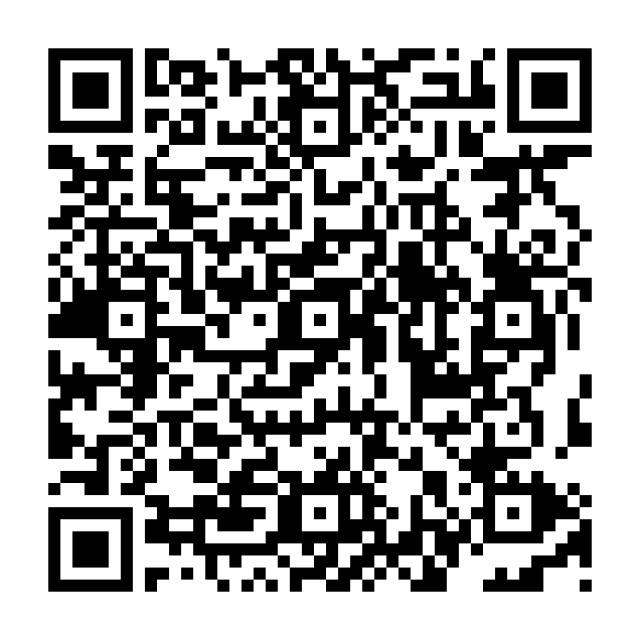QRCode: (1, 1, 627, 632)
